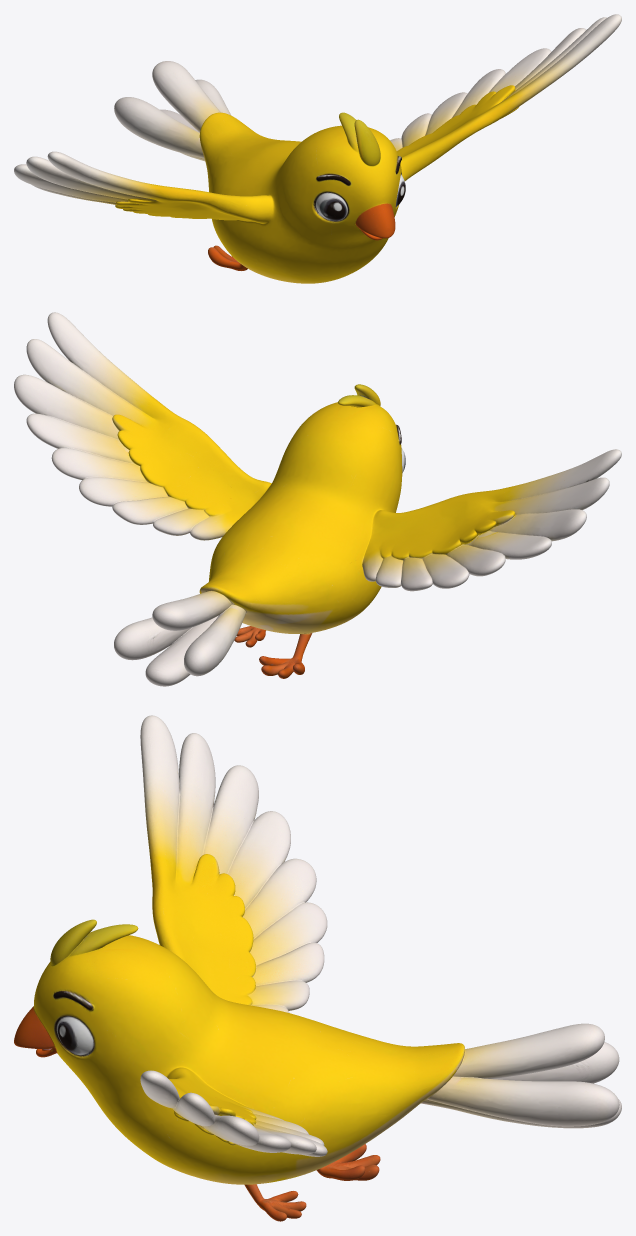
3 renders of one model, top to bottom at view 1: azimuth 30°, elevation 25°; view 2: azimuth 150°, elevation 25°; view 3: azimuth 270°, elevation 25°, orthographic. The views are drawn at different scales.
Bounding box in the file's own units: 1.9 × 0.7243 × 1.33.
Materials: 1 (1 with a texture image).
